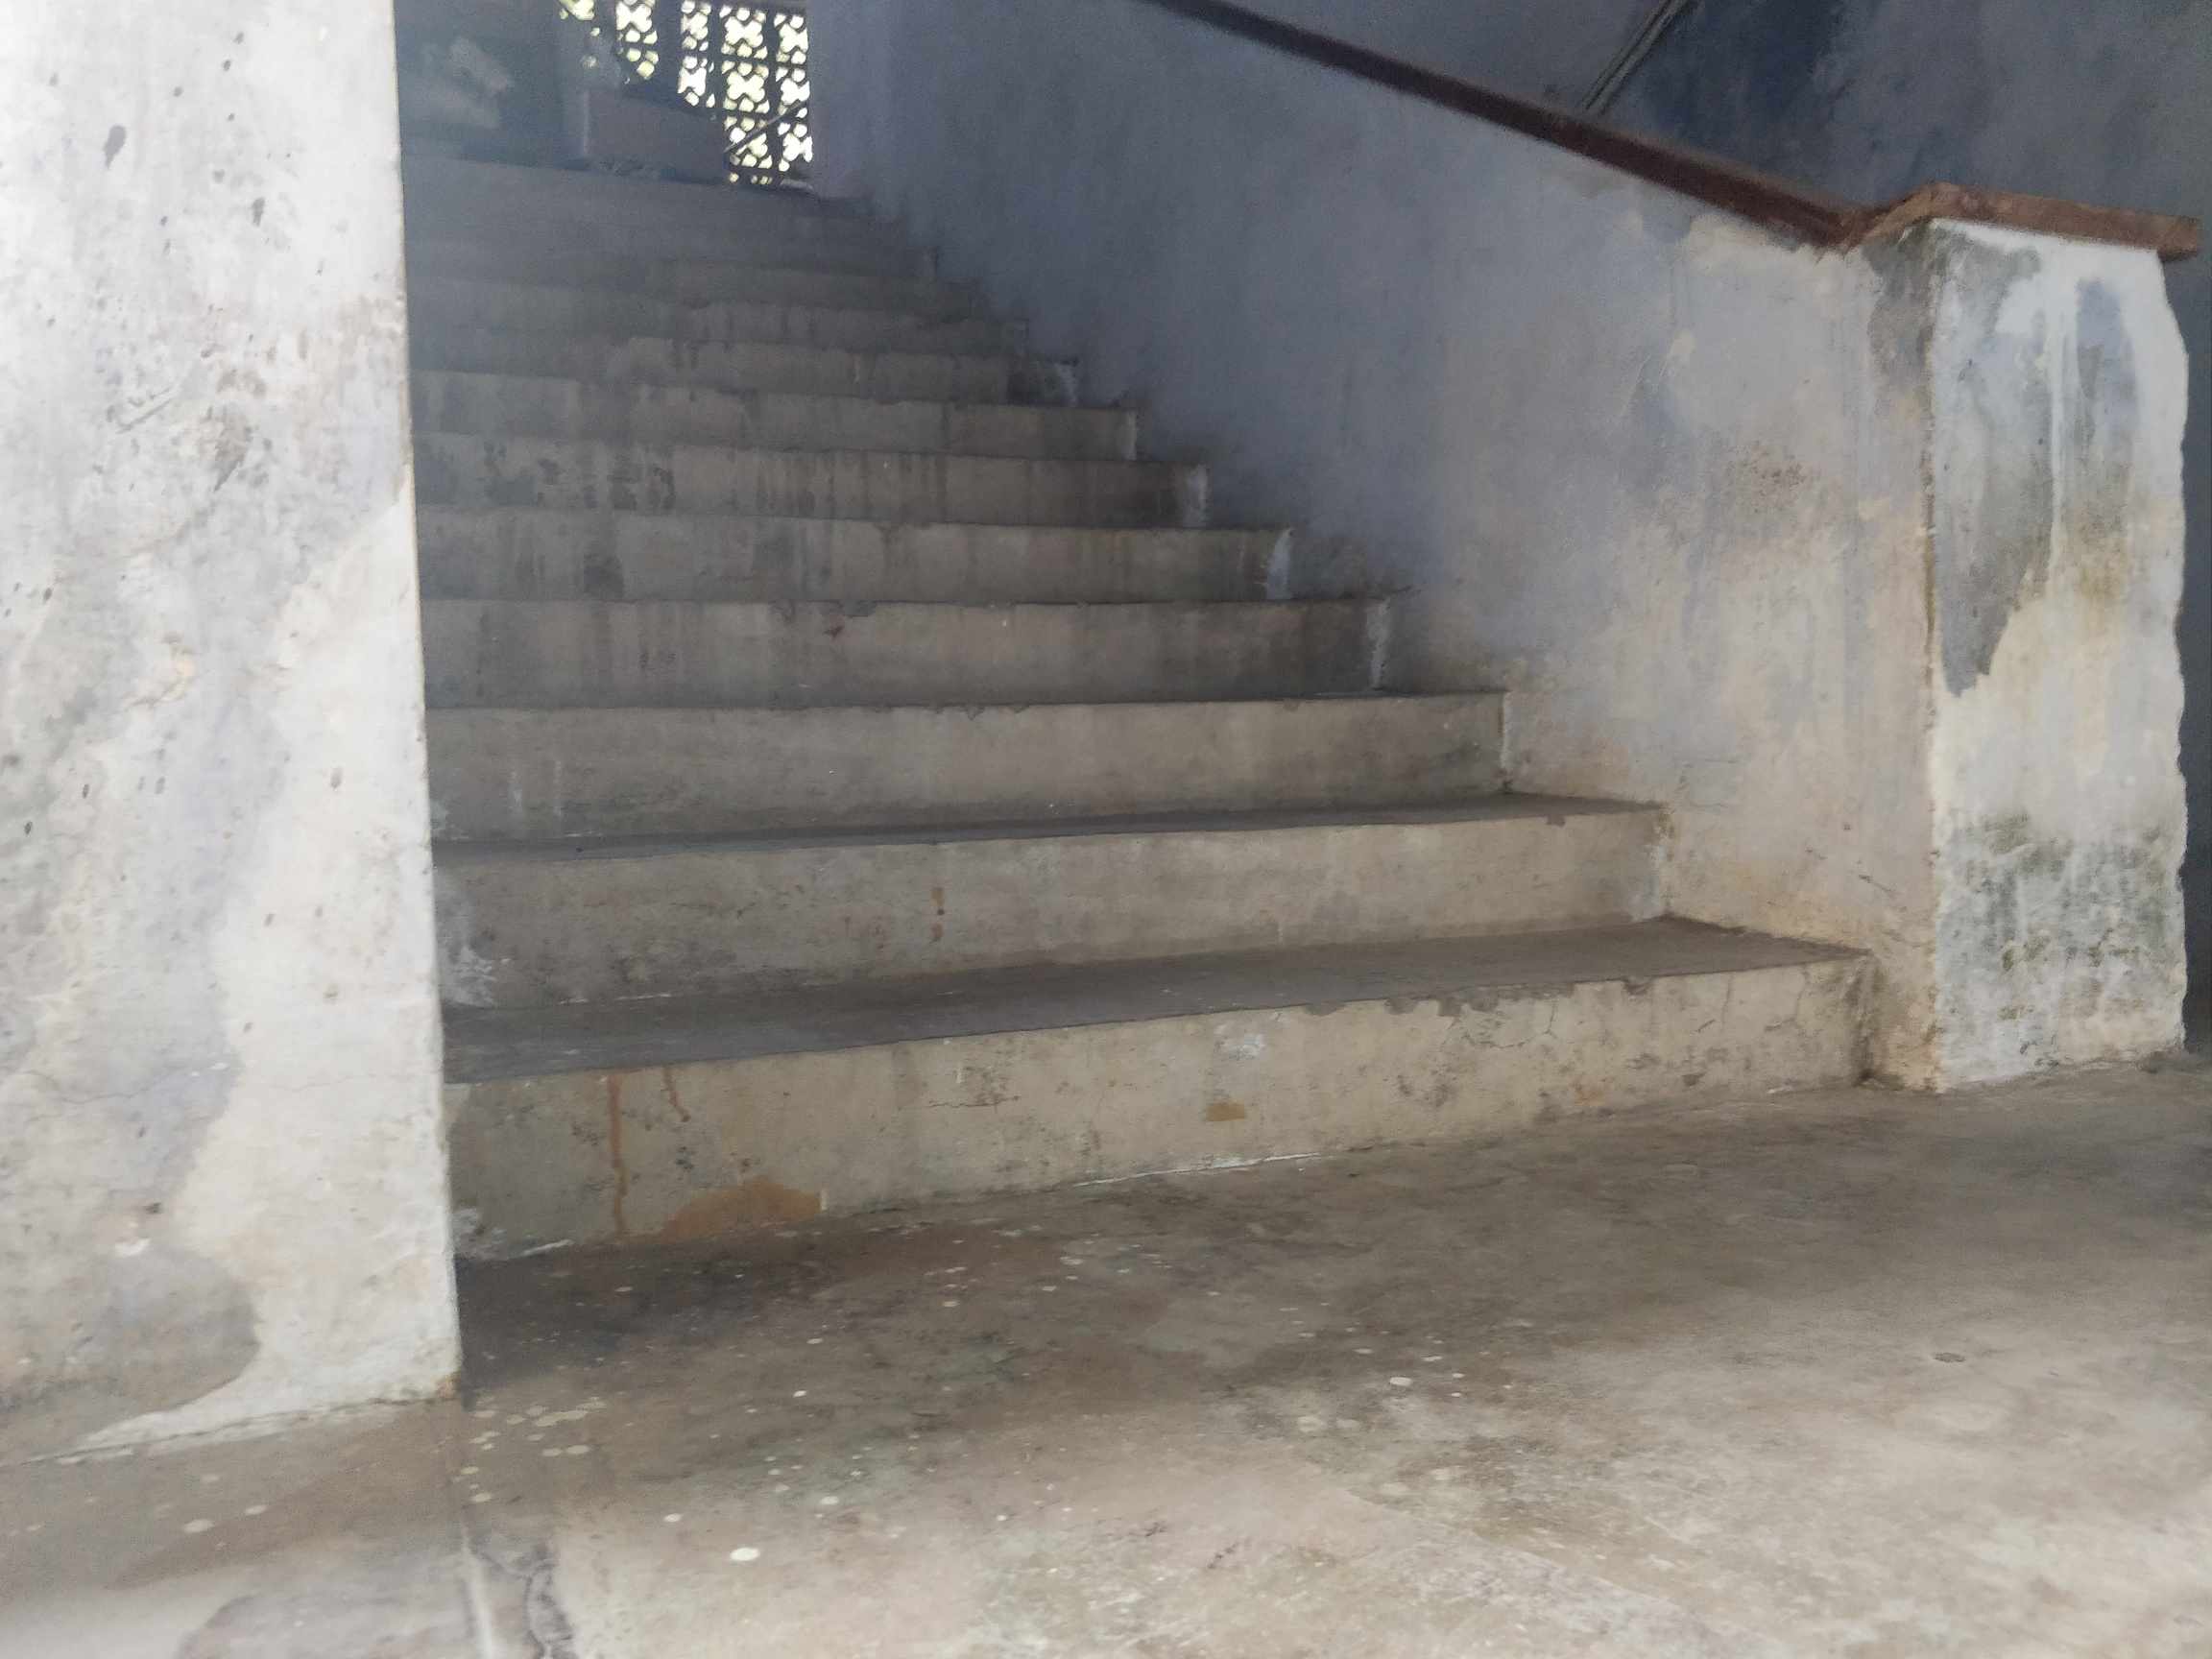stairs_up: (394, 124, 1876, 1302)
